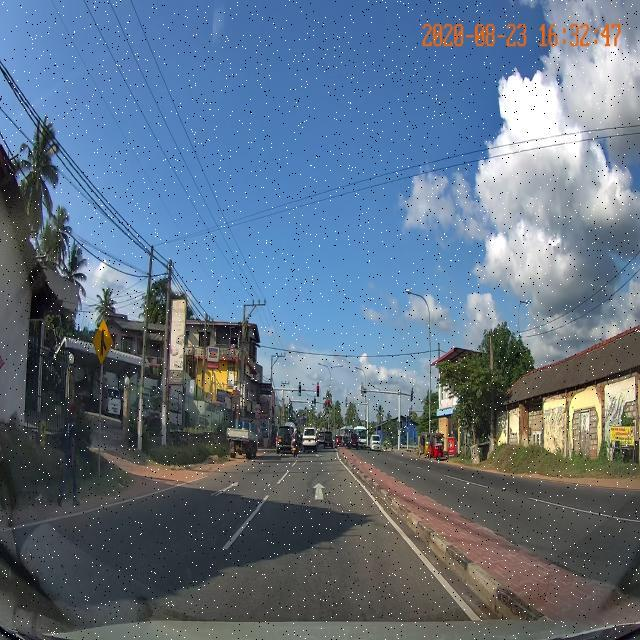forward: (258, 481, 388, 509)
